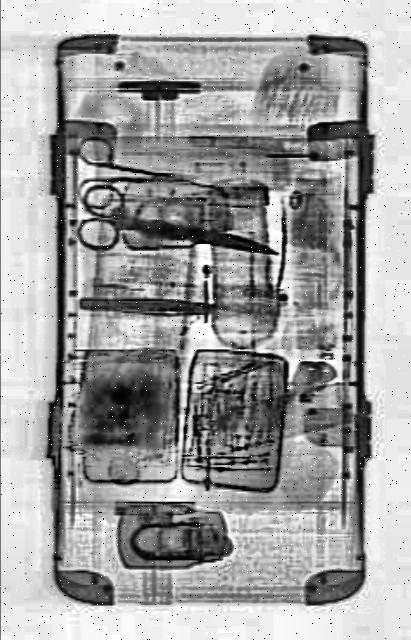Scissors: (78, 184, 282, 290), (79, 137, 193, 219)
